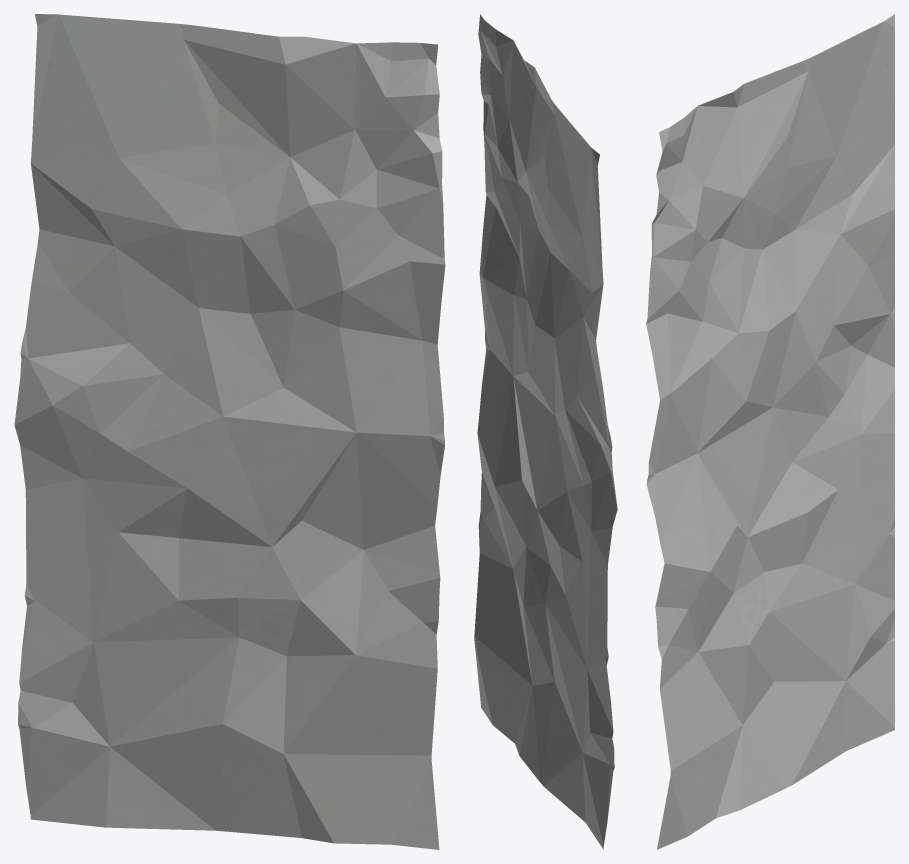
The picture shows the model from 3 angles, left to right: view 1: azimuth 30°, elevation 25°; view 2: azimuth 150°, elevation 25°; view 3: azimuth 270°, elevation 25°; orthographic projection. The views are drawn at different scales.
Size of the model in its own units: 0.3175 by 0.8373 by 0.2632.
Materials: 1 (1 with a texture image).
